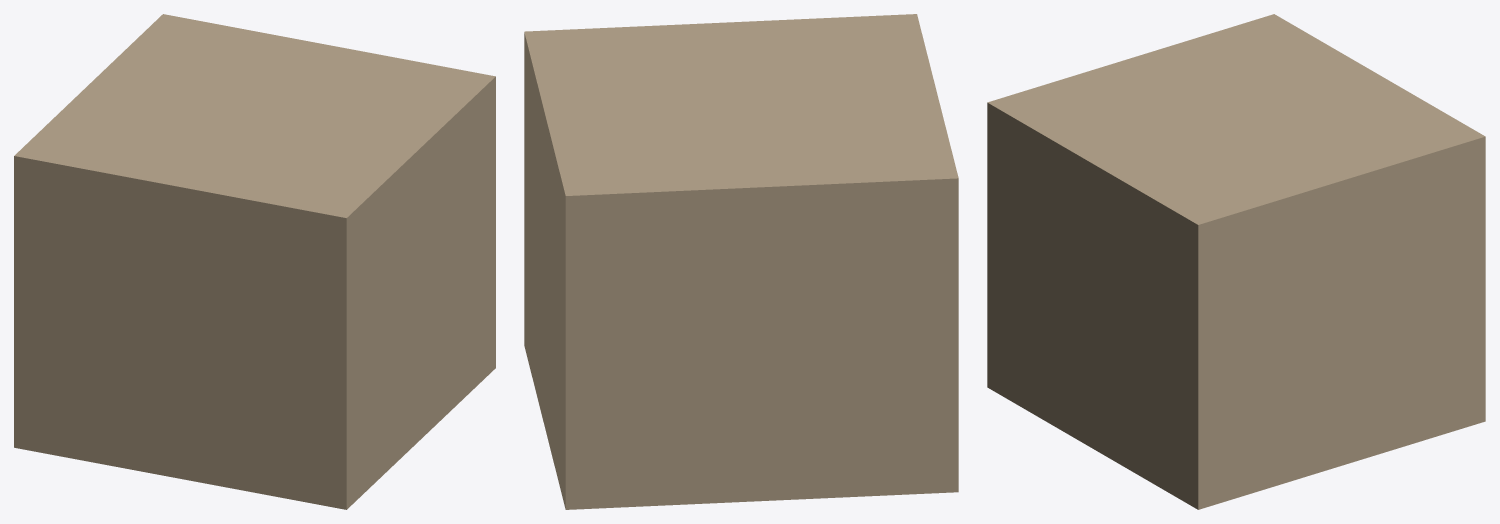
The model's file is bld_163484347.dae.
3 renders of one model, left to right at view 1: azimuth 30°, elevation 25°; view 2: azimuth 150°, elevation 25°; view 3: azimuth 270°, elevation 25°, orthographic. The views are drawn at different scales.
Visible parts, largest first — view 1: bld_163484347; view 2: bld_163484347; view 3: bld_163484347.
Boxes of the visible parts, x1,y1,x2,y2 form: bld_163484347: (14, 14, 495, 509); bld_163484347: (524, 14, 958, 509); bld_163484347: (987, 14, 1485, 509).
Size of the model in its own units: 12.71 by 12.68 by 8.
